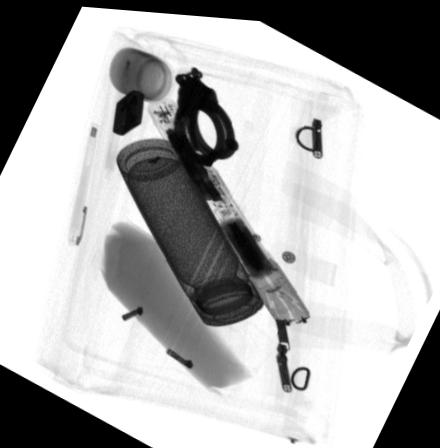Baton: (147, 97, 310, 321)
HandCuffs: (172, 61, 238, 164)
Lighter: (111, 85, 145, 133)
